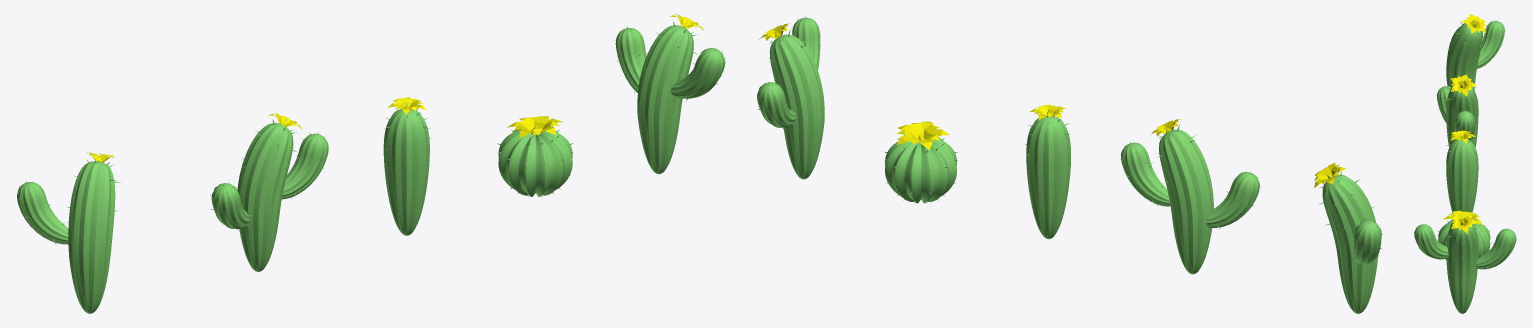
3 renders of one model, left to right at view 1: azimuth 30°, elevation 25°; view 2: azimuth 150°, elevation 25°; view 3: azimuth 270°, elevation 25°, orthographic. The views are drawn at different scales.
Parts seen in each view (by area): view 1: 仙人掌3_1, 仙人掌4_1, 仙人掌2, 仙人掌1_1, 仙人掌5_1; view 2: 仙人掌4_1, 仙人掌3_1, 仙人掌2, 仙人掌1_1, 仙人掌5_1; view 3: 仙人掌3_1, 仙人掌2, 仙人掌1_1, 仙人掌4_1, 仙人掌5_1.
Part boxes in pixels (bbox=[...]): 仙人掌3_1: bbox=[614, 14, 725, 174]; 仙人掌4_1: bbox=[210, 113, 328, 271]; 仙人掌2: bbox=[16, 152, 121, 313]; 仙人掌1_1: bbox=[383, 97, 431, 235]; 仙人掌5_1: bbox=[497, 116, 573, 197]; 仙人掌4_1: bbox=[1120, 119, 1261, 274]; 仙人掌3_1: bbox=[756, 16, 824, 179]; 仙人掌2: bbox=[1314, 163, 1384, 313]; 仙人掌1_1: bbox=[1025, 104, 1070, 239]; 仙人掌5_1: bbox=[884, 121, 958, 203]; 仙人掌3_1: bbox=[1414, 212, 1516, 313]; 仙人掌2: bbox=[1446, 14, 1504, 87]; 仙人掌1_1: bbox=[1446, 130, 1478, 212]; 仙人掌4_1: bbox=[1435, 74, 1479, 147]; 仙人掌5_1: bbox=[1437, 210, 1490, 260].
Bounding box in the file's own units: 1.81 × 0.4 × 0.3568.
